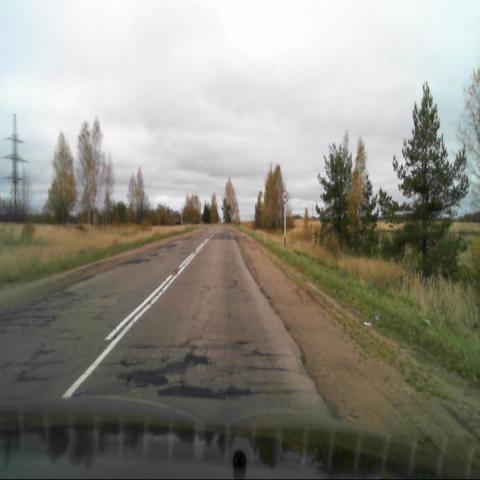3_24: (282, 190, 288, 203)
